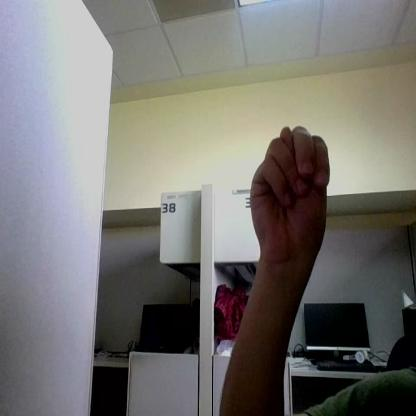N: (250, 127, 330, 258)
